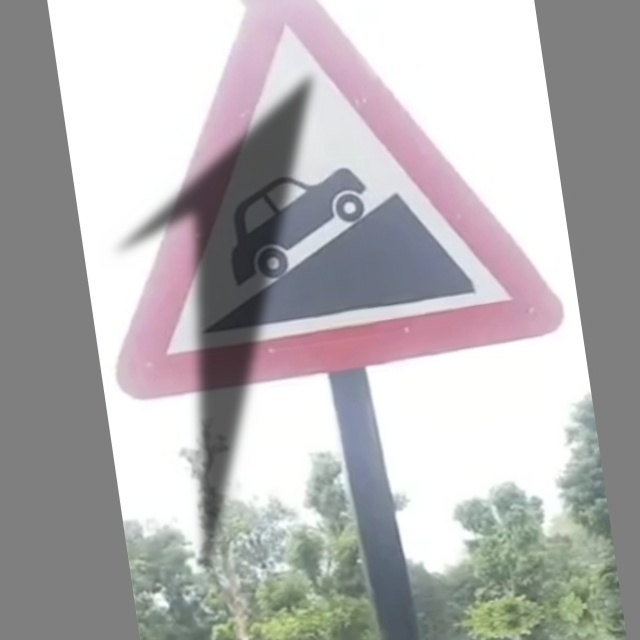Steep_Ascent: (113, 20, 523, 382)
